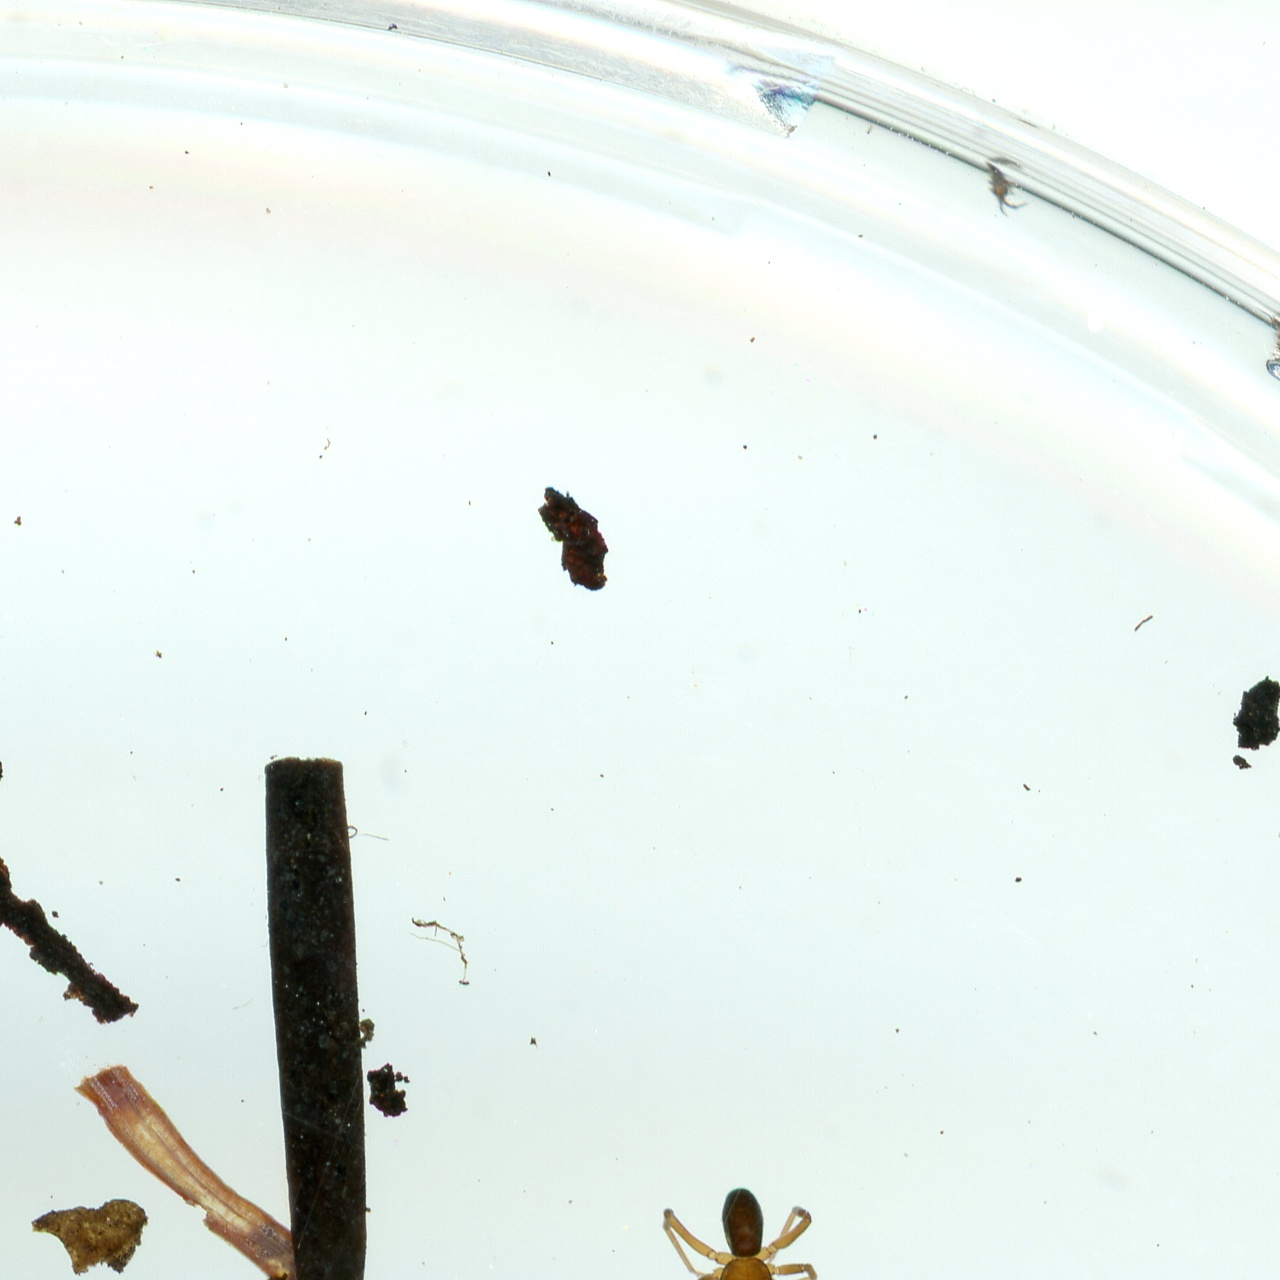arthropod: (640, 1188, 820, 1280)
